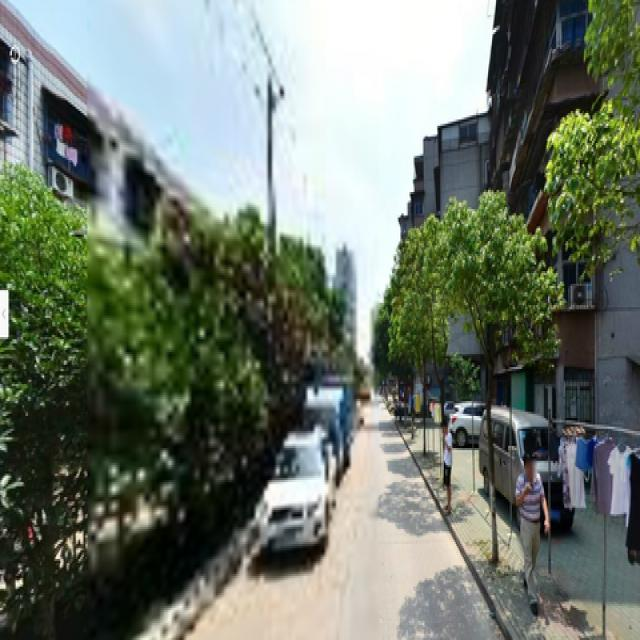cinn: (455, 216, 540, 531)
